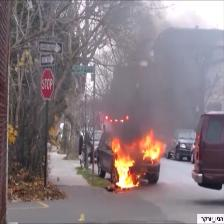fire: (104, 111, 169, 195)
smoke: (86, 11, 175, 125)
